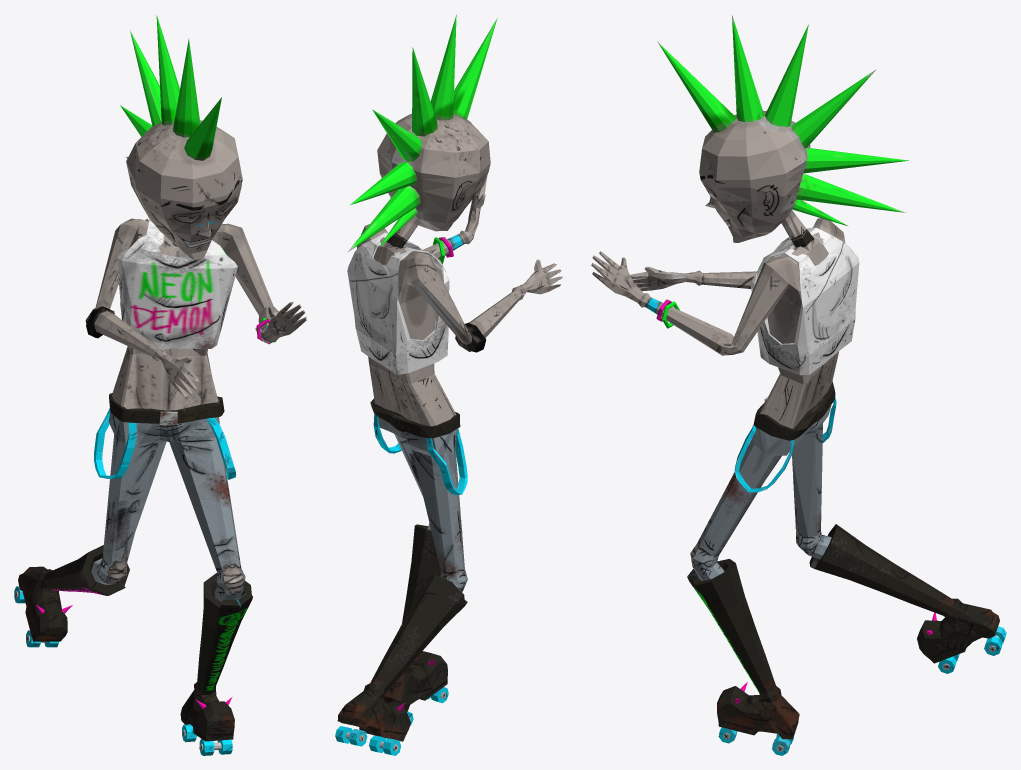
File: punkAnimation_000017.obj
The picture shows the model from 3 angles, left to right: view 1: azimuth 30°, elevation 25°; view 2: azimuth 150°, elevation 25°; view 3: azimuth 270°, elevation 25°; orthographic projection. The views are drawn at different scales.
Visible parts, largest first — view 1: Cube.004_Cube.003; view 2: Cube.004_Cube.003; view 3: Cube.004_Cube.003.
Part boxes in pixels (box(x1,y1,x2,y2)): Cube.004_Cube.003: box(14, 15, 306, 755); Cube.004_Cube.003: box(335, 14, 562, 755); Cube.004_Cube.003: box(591, 15, 1006, 755).
Bounding box in the file's own units: 1.62 × 7.28 × 3.81.
